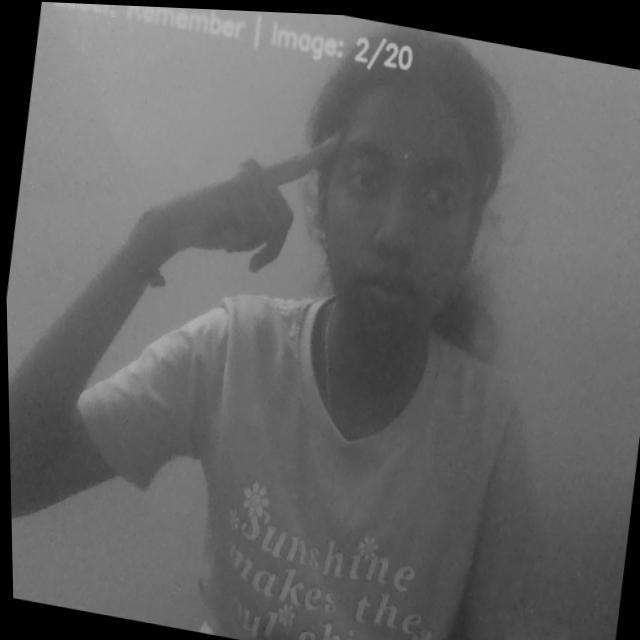Remember: (127, 86, 353, 311)
